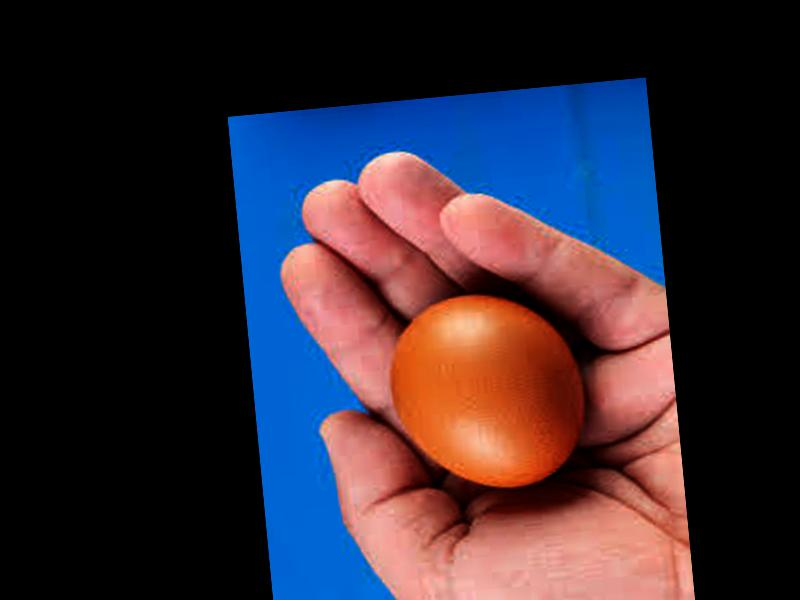Eggs: (383, 282, 587, 496)
